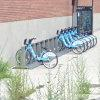Bicycle: (21, 36, 96, 63)
